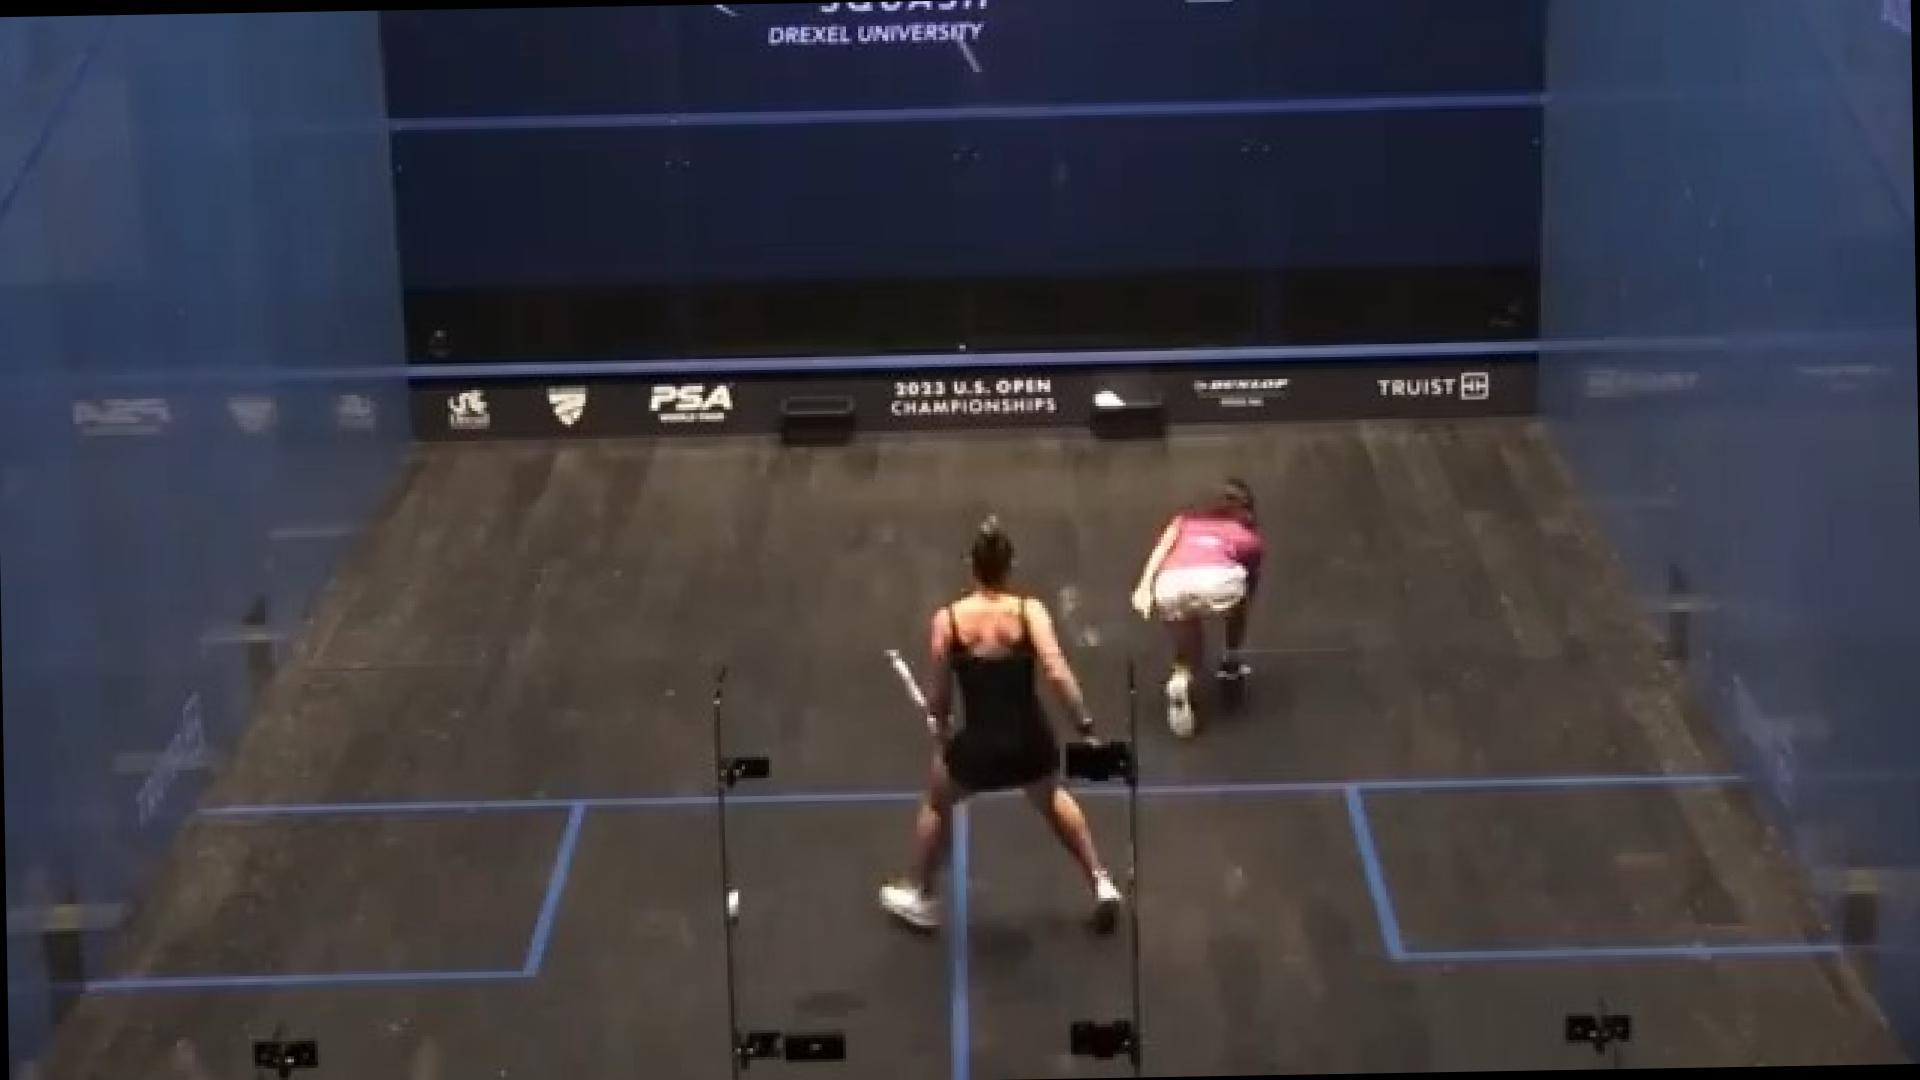Squash-Ball: (913, 7, 1040, 104)
